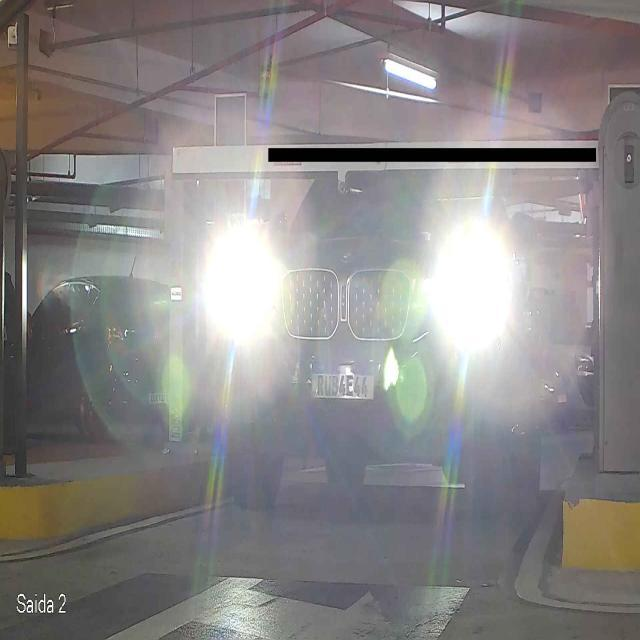mercosul_plate: (309, 357, 379, 401)
